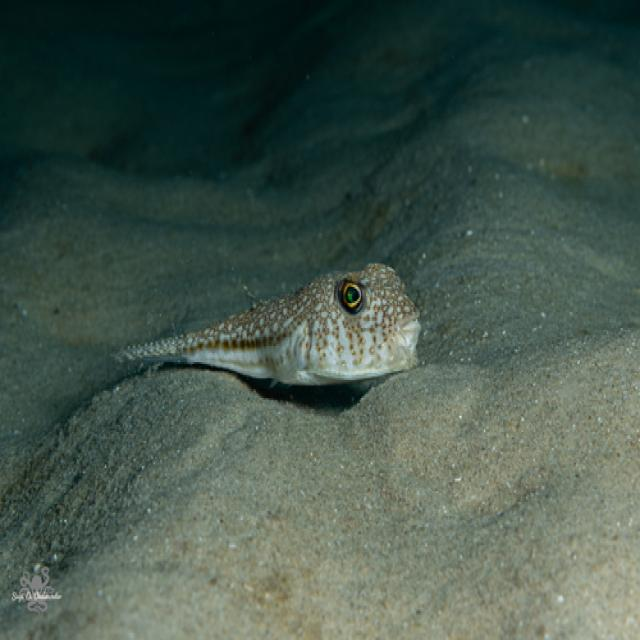Balik: (118, 264, 419, 385)
